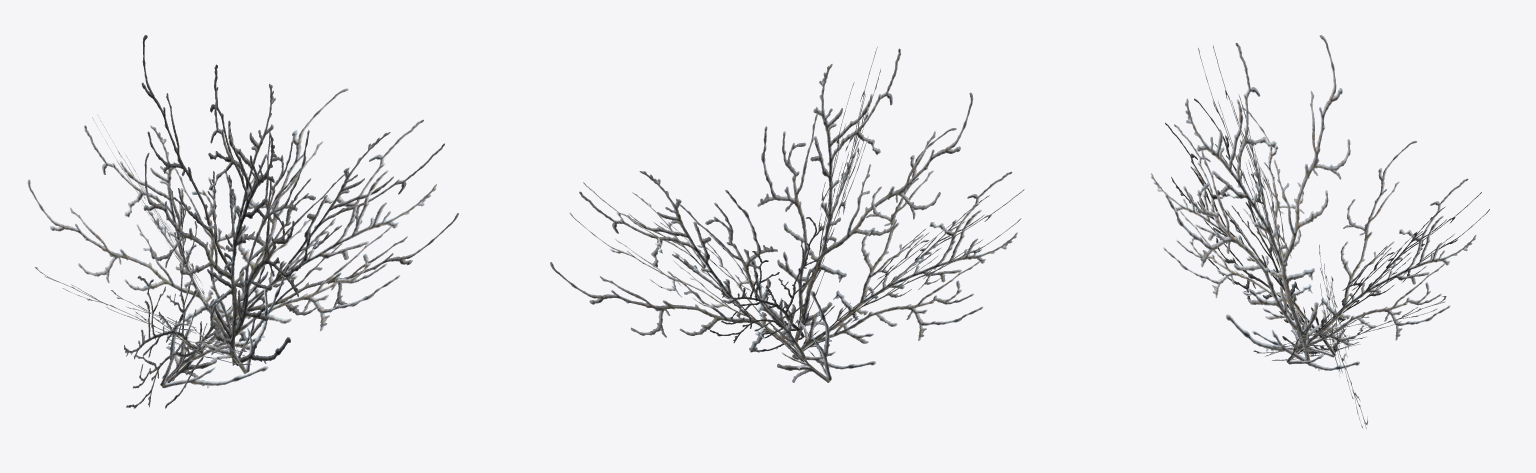
The model's file is SC_bingfengyiji_07.FBX.
3 renders of one model, left to right at view 1: azimuth 30°, elevation 25°; view 2: azimuth 150°, elevation 25°; view 3: azimuth 270°, elevation 25°, orthographic. The views are drawn at different scales.
Visible parts, largest first — view 1: SC_bingfengyiji_07; view 2: SC_bingfengyiji_07; view 3: SC_bingfengyiji_07.
Boxes of the visible parts, bbox=[...] form: SC_bingfengyiji_07: bbox=[27, 35, 458, 408]; SC_bingfengyiji_07: bbox=[550, 47, 1024, 382]; SC_bingfengyiji_07: bbox=[1151, 35, 1489, 428].
Size of the model in its own units: 227 by 197 by 184.
